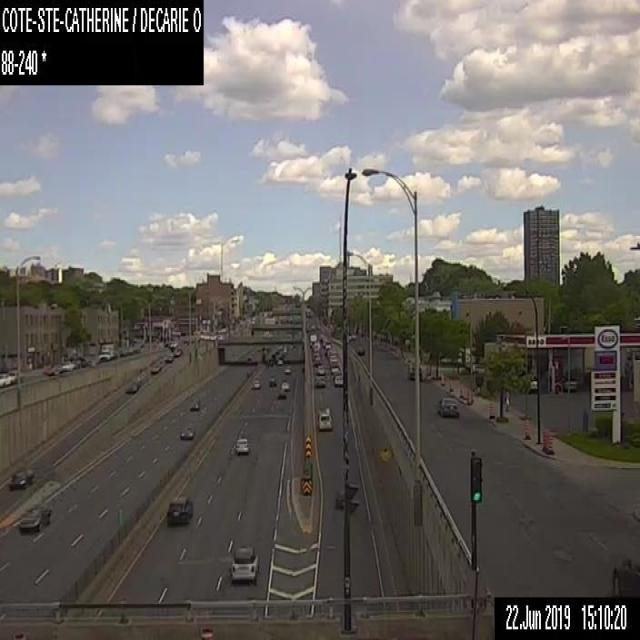construction: (547, 431, 553, 453), (524, 418, 530, 439), (488, 402, 494, 418), (542, 428, 546, 448), (459, 382, 463, 396), (448, 377, 452, 391), (440, 372, 444, 386), (468, 388, 470, 404), (464, 386, 466, 398)
pedestrian: (503, 389, 509, 412)
vehicle: (231, 546, 258, 580), (19, 506, 50, 530), (167, 496, 192, 524), (436, 395, 458, 416), (10, 468, 33, 486), (317, 408, 333, 431), (405, 360, 423, 379), (98, 344, 113, 361), (234, 437, 248, 452), (180, 425, 194, 438), (126, 380, 141, 392), (46, 364, 61, 375), (60, 361, 75, 372), (564, 378, 576, 390), (314, 376, 325, 387), (528, 377, 536, 392), (333, 374, 342, 387), (150, 363, 162, 372), (188, 400, 199, 409), (0, 374, 8, 386), (8, 370, 16, 382), (315, 364, 325, 373), (333, 370, 341, 381), (329, 354, 337, 364), (164, 354, 174, 362), (330, 363, 338, 372), (174, 348, 182, 356), (280, 381, 288, 389), (253, 379, 260, 388), (268, 377, 275, 385), (277, 356, 283, 364), (284, 364, 290, 372), (324, 340, 330, 348)
